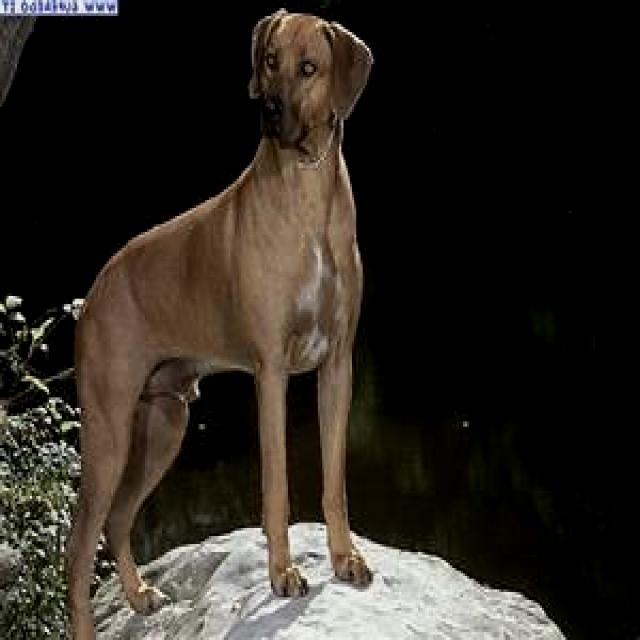KOPEK: (57, 7, 376, 640)
